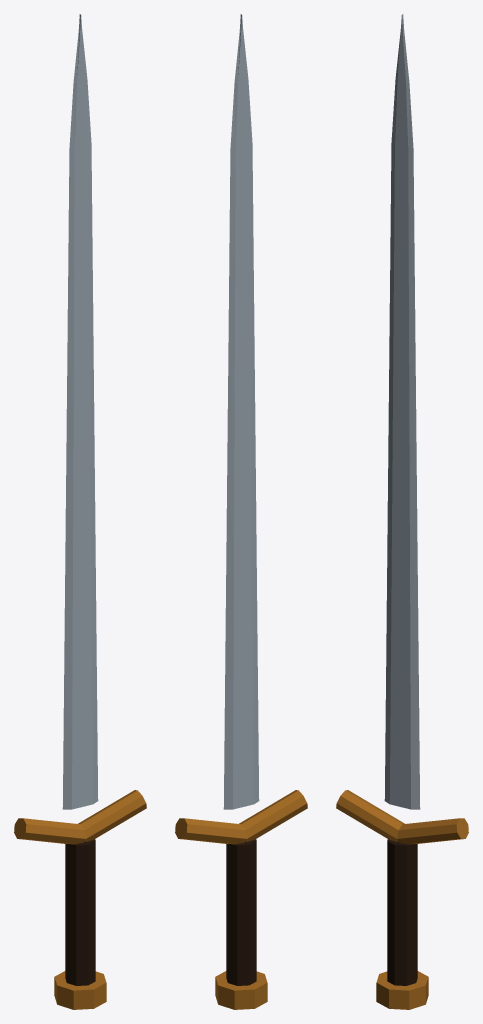
The picture shows the model from 3 angles, left to right: view 1: azimuth 30°, elevation 25°; view 2: azimuth 210°, elevation 25°; view 3: azimuth 330°, elevation 25°; orthographic projection.
Parts seen in each view (by area): view 1: L1_Sword; view 2: L1_Sword; view 3: L1_Sword.
Boxes of the visible parts, <box> form: L1_Sword: <box>14,14,146,1009</box>; L1_Sword: <box>175,14,307,1009</box>; L1_Sword: <box>336,14,468,1009</box>.
Bounding box in the file's own units: 0.1576 × 1.17 × 0.058.
Materials: 1 (1 with a texture image).
